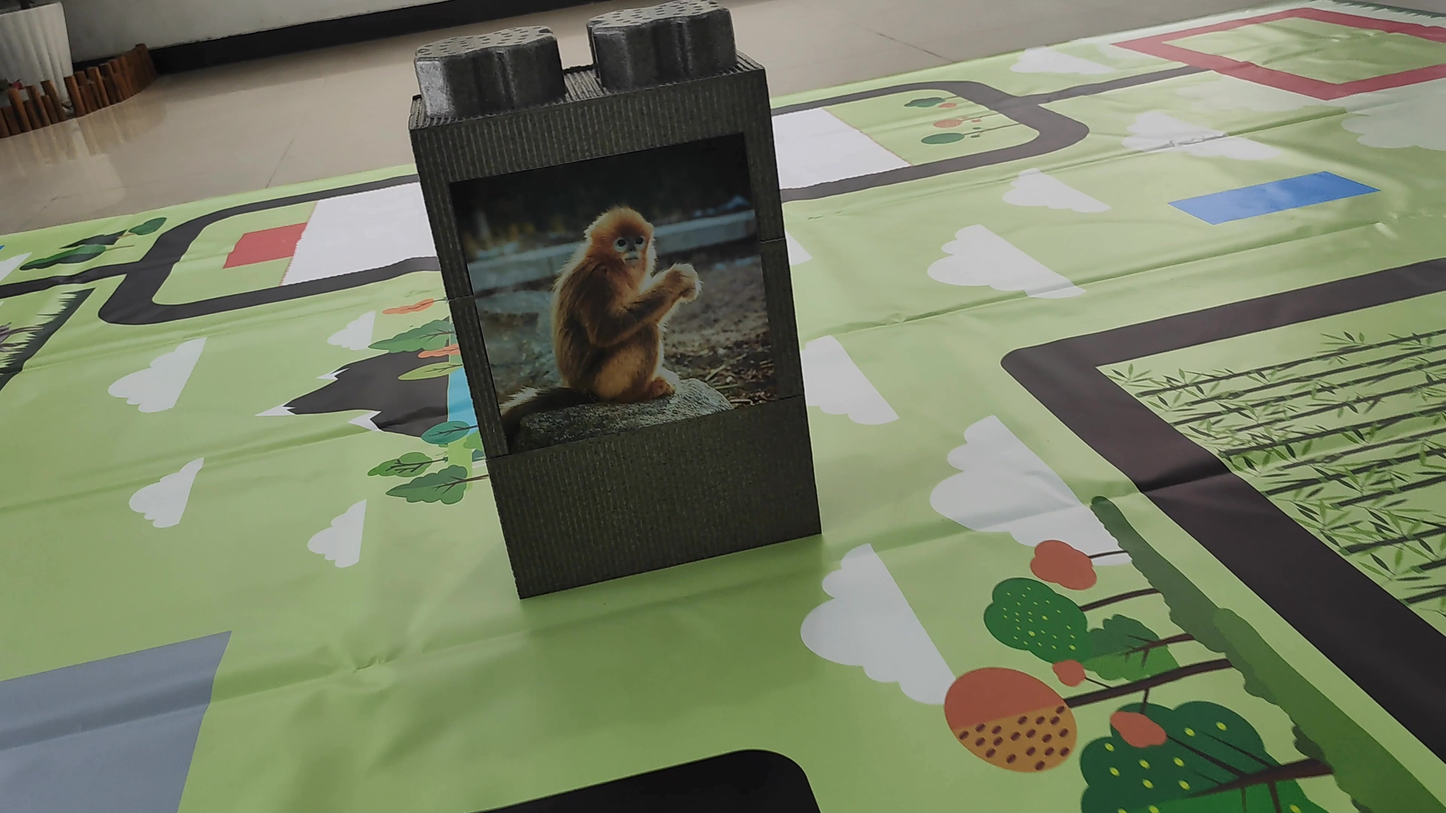monkey: (485, 196, 727, 438)
